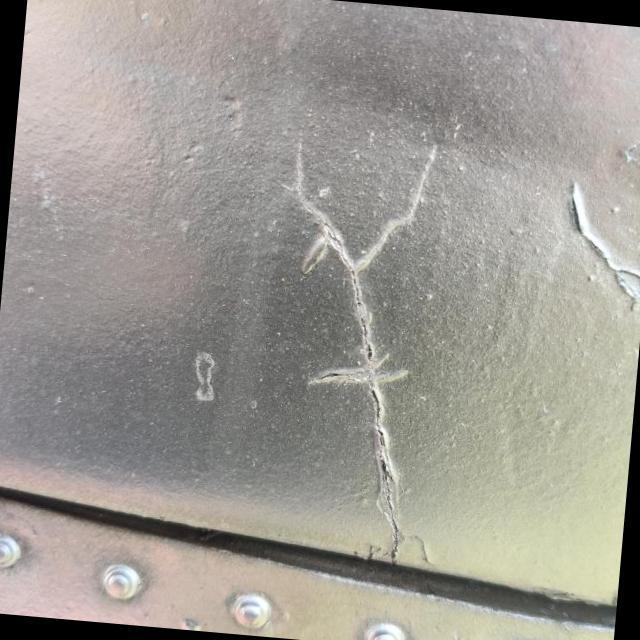Rupture: (225, 105, 458, 570)
